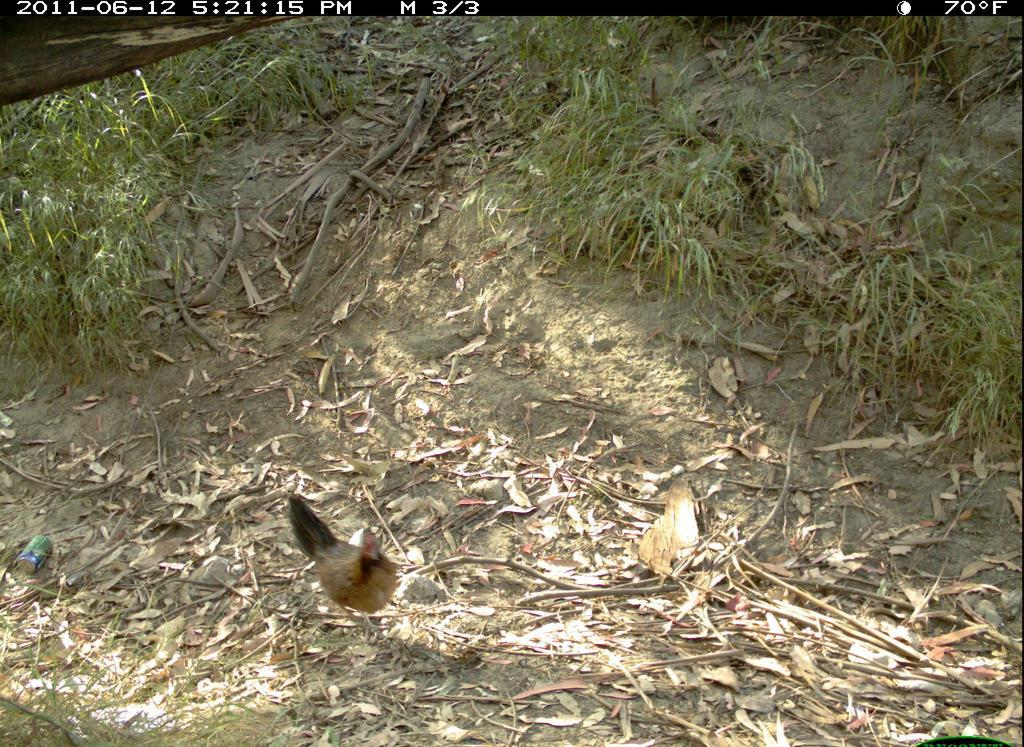bird: (280, 478, 408, 626)
